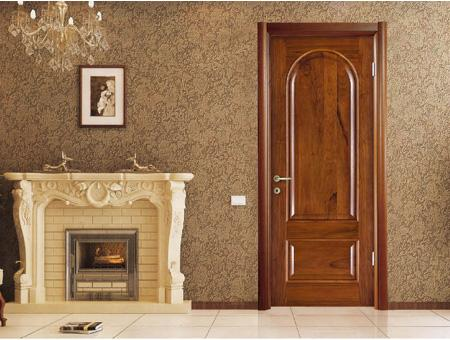door: (269, 36, 372, 304)
